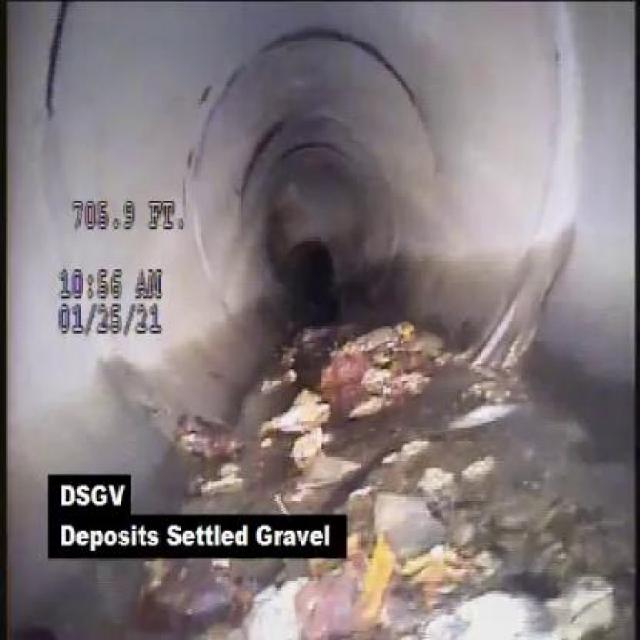Debris: (351, 477, 634, 638), (318, 311, 449, 412), (251, 377, 332, 481)
